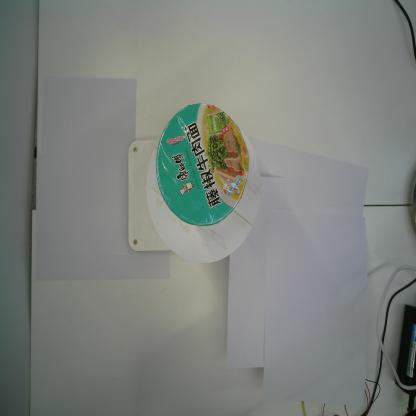Instant Noodles: (155, 101, 250, 230)
